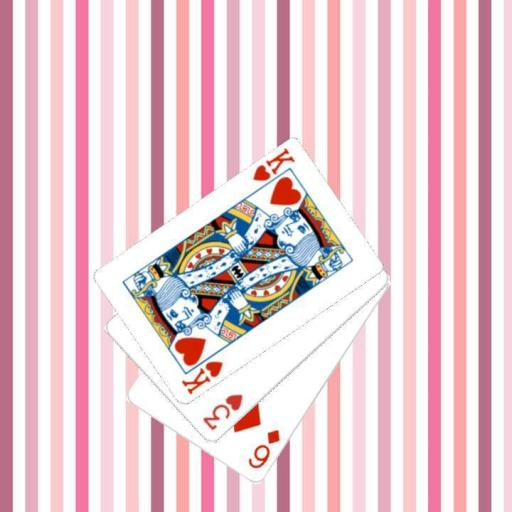card-corner: (199, 391, 245, 432), (249, 145, 296, 184), (244, 426, 282, 472), (178, 358, 224, 396)
